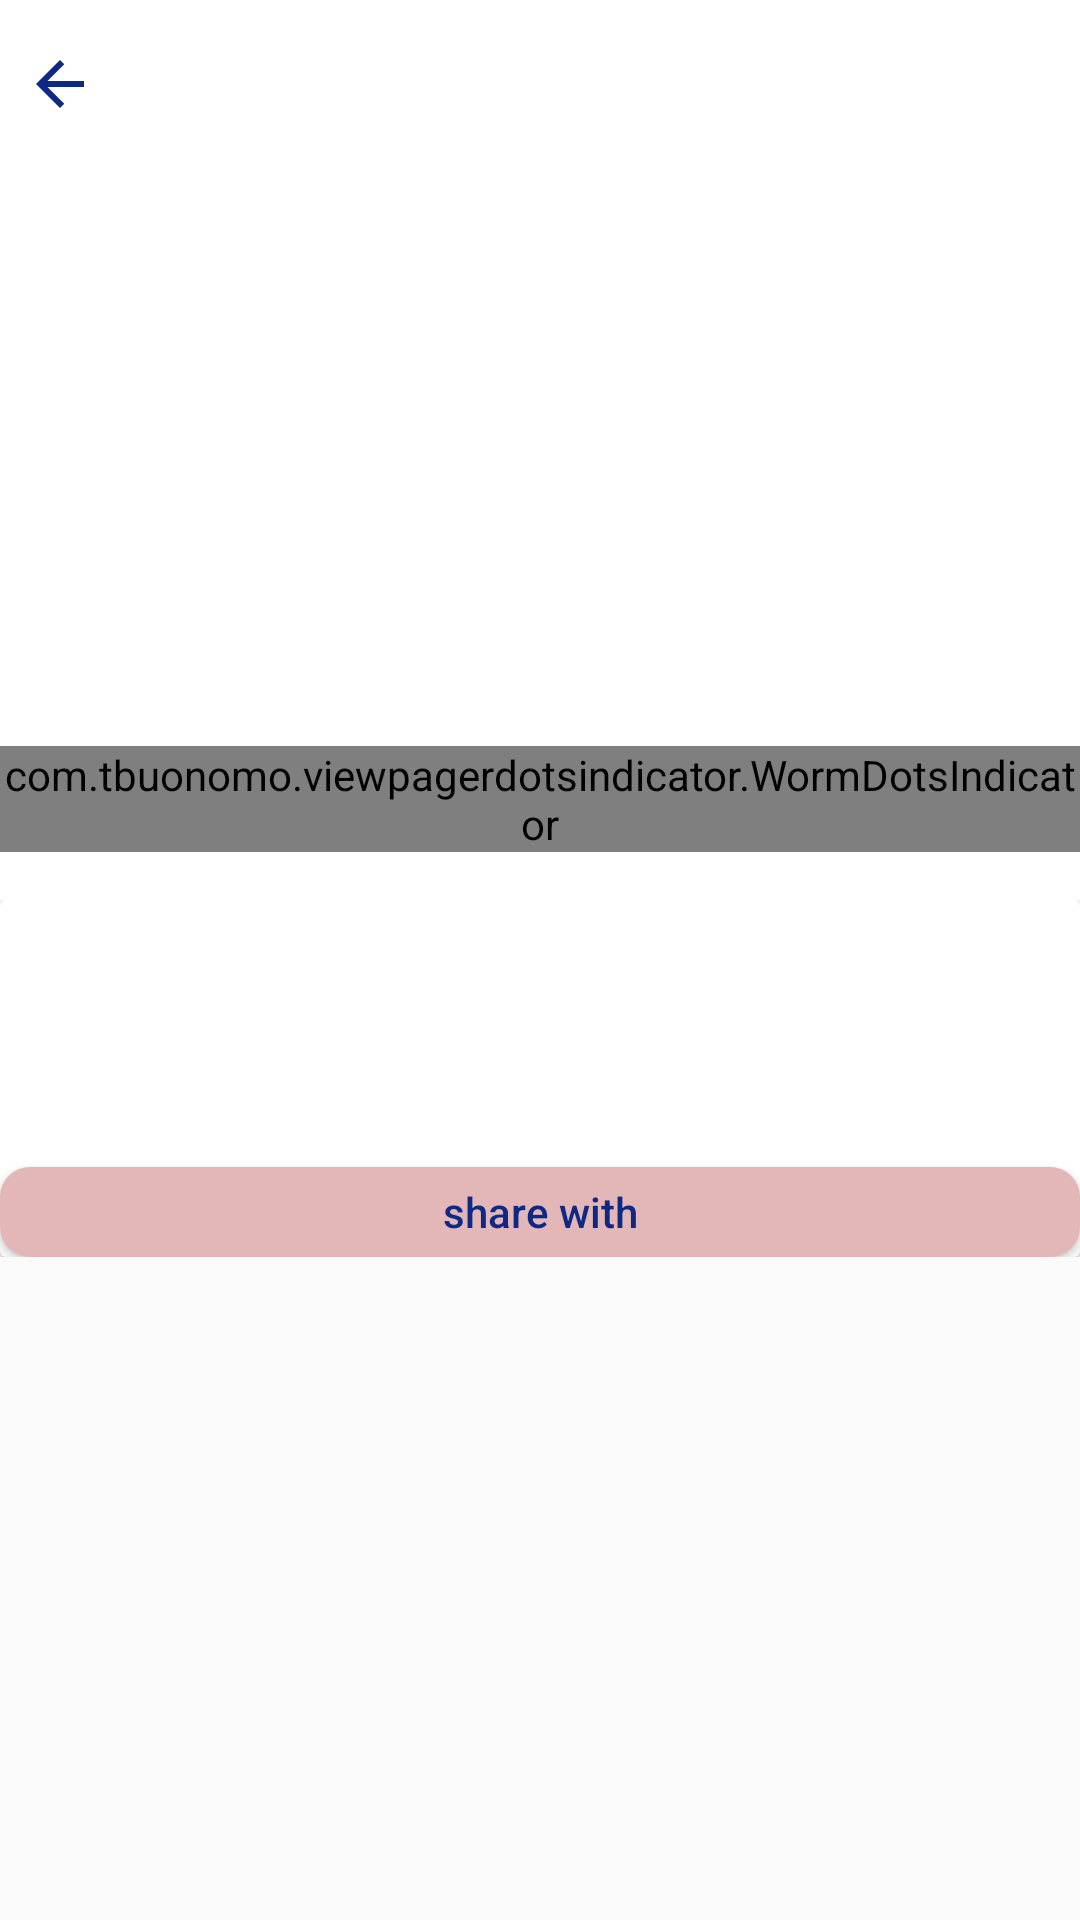

Where icons sit on this 1080px x 1920px app screen, as box=[x1, y1, x2, y2]:
back: box=[36, 60, 84, 108]
